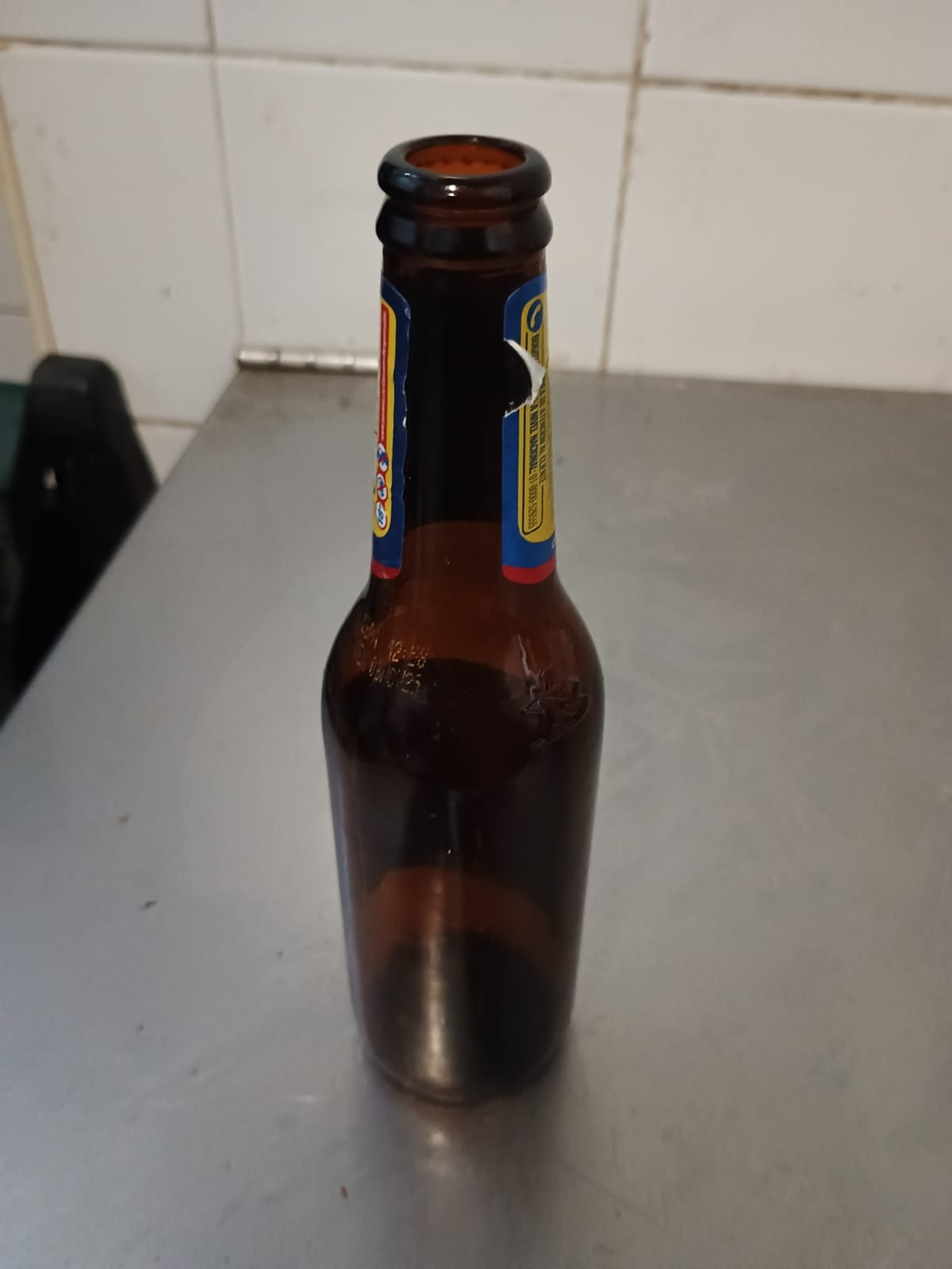Vidrio: (320, 133, 607, 1104)
